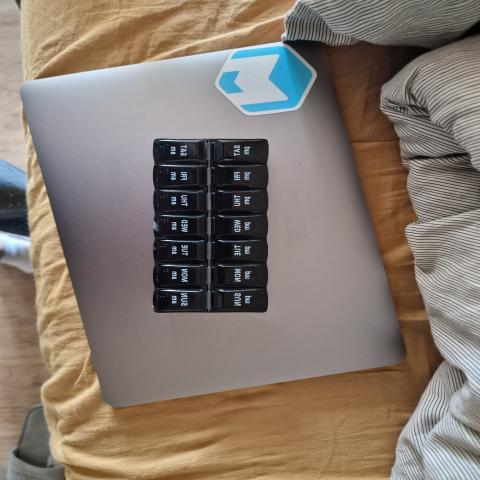FRI-am: (155, 167, 203, 185)
FRI-pm: (213, 168, 267, 187)
MON-am: (156, 264, 207, 287)
MON-pm: (215, 267, 272, 288)
SAT-am: (156, 140, 205, 162)
SAT-pm: (214, 142, 266, 163)
SUN-am: (159, 287, 207, 315)
SUN-pm: (218, 290, 270, 313)
THU-am: (155, 190, 204, 214)
THU-pm: (215, 191, 267, 211)
TUE-am: (154, 240, 207, 261)
TUE-pm: (214, 241, 270, 263)
WED-am: (154, 215, 206, 239)
WED-pm: (211, 218, 268, 239)
